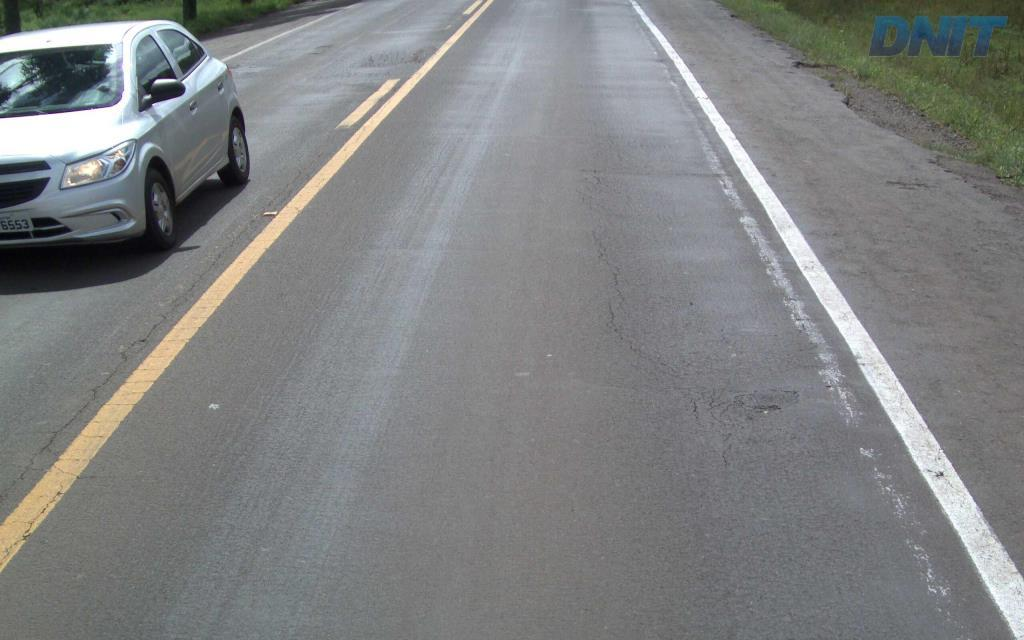crack: (695, 388, 785, 424)
